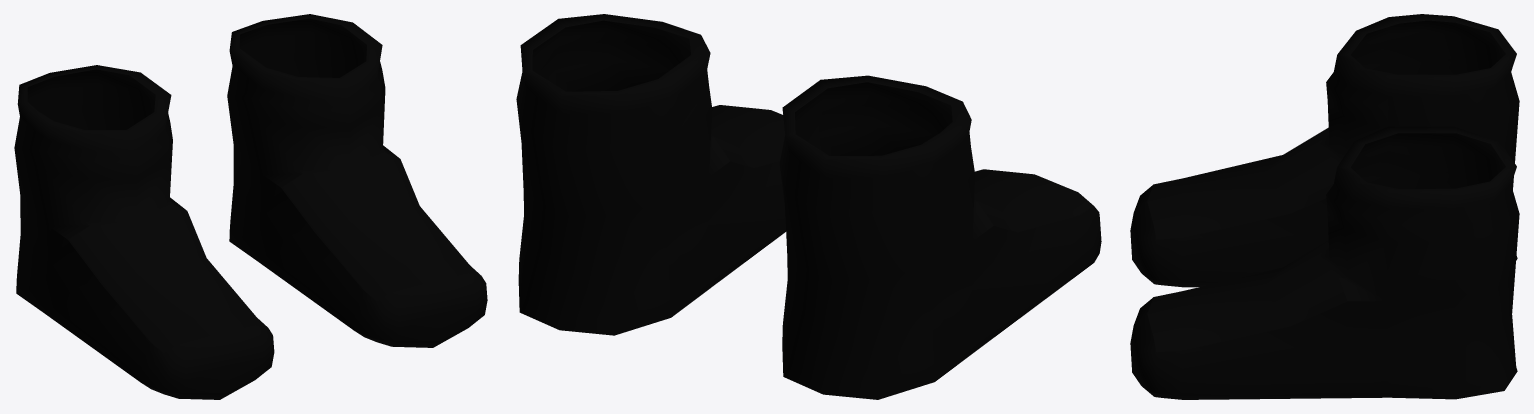
File: Calcado.glb
3 renders of one model, left to right at view 1: azimuth 30°, elevation 25°; view 2: azimuth 150°, elevation 25°; view 3: azimuth 270°, elevation 25°, orthographic. The views are drawn at different scales.
Visible parts, largest first — view 1: Calcado; view 2: Calcado; view 3: Calcado.
Part boxes in pixels (bbox=[...]): Calcado: bbox=[14, 14, 487, 399]; Calcado: bbox=[516, 14, 1101, 399]; Calcado: bbox=[1130, 14, 1519, 399].
Bounding box in the file's own units: 0.3159 × 0.1808 × 0.282.
Materials: 1 (1 with a texture image).
